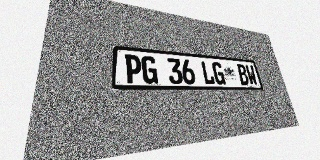3: (167, 58, 183, 84)
6: (180, 59, 196, 84)
B: (236, 64, 250, 85)
G: (141, 56, 158, 84), (211, 62, 226, 85)
L: (200, 61, 215, 85)
P: (125, 54, 142, 84)
W: (245, 65, 258, 85)
